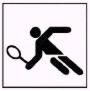Tenis: (4, 3, 88, 91)
